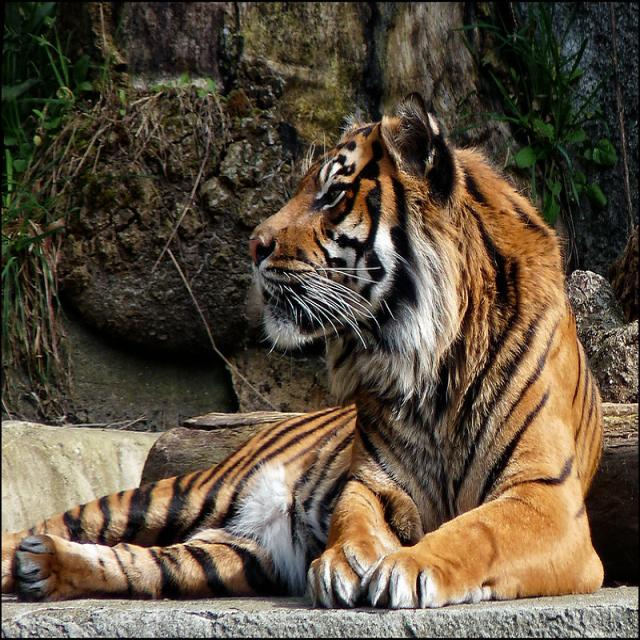Tiger: (2, 90, 603, 608)
